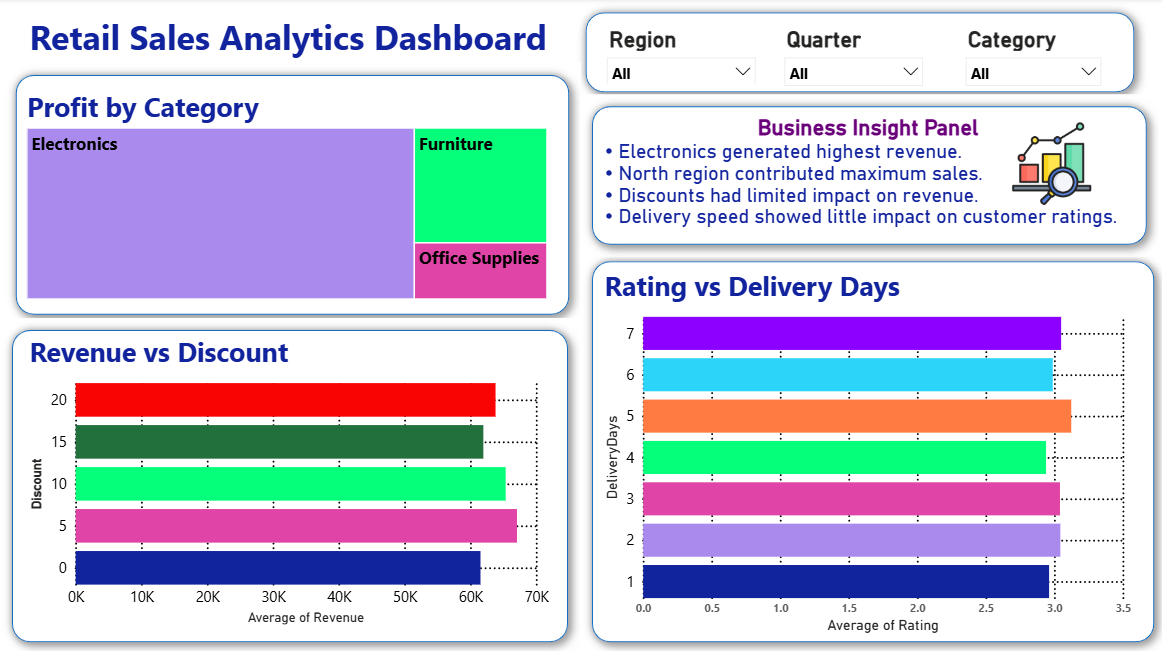

What the dashboard file says about the page in this screenshot:
{"tool":"powerbi","page":{"name":"Business Insights","canvas":[1280,720],"ordinal":3},"visuals":[{"type":"group","id":"g1","title":"Group 1","box":[629.8,2.7,628.5,113.9],"z":0,"group":"g6"},{"type":"shape","box":[629.8,2.7,628.5,113.9],"z":0,"group":"g1"},{"type":"textbox","box":[27.4,12.3,592.8,70],"z":0},{"type":"group","id":"g2","title":"Group 1","box":[3.4,71.7,634,289.5],"z":0,"group":"g7"},{"type":"shape","box":[3.4,71.7,634,289.5],"z":0,"group":"g2"},{"type":"group","id":"g3","title":"Group 1","box":[636.7,105.7,635.3,178.4],"z":0,"group":"g10"},{"type":"shape","box":[636.7,105.7,635.3,178.4],"z":0,"group":"g3"},{"type":"group","id":"g4","title":"Group 1","box":[636.7,275.8,643.6,444.6],"z":0,"group":"g9"},{"type":"shape","box":[636.7,275.8,643.6,444.6],"z":0,"group":"g4"},{"type":"group","id":"g5","title":"Group 1","box":[0,350.6,636.7,369.1],"z":0,"group":"g8"},{"type":"shape","box":[0,350.6,636.7,369.1],"z":0,"group":"g5"},{"type":"group","id":"g6","title":"Group 2","box":[629.8,2.7,628.5,113.9],"z":1000},{"type":"slicer","fields":{"Values":["Orders_Big.OrderDate.Variation.Date Hierarchy.Quarter"]},"box":[851.3,25.5,172.7,72.1],"z":1000,"group":"g6"},{"type":"treemap","title":"Profit by Category","fields":{"Values":["Sum(Orders_Big.Profit)"],"Group":["Products_Big.Category"]},"box":[23.8,99.3,580.9,236.8],"z":1000,"group":"g7"},{"type":"barChart","title":"Rating vs Delivery Days","fields":{"Category":["Orders_Big.DeliveryDays"],"Y":["Avg(Orders_Big.Rating)"]},"box":[659,294.6,588.3,407.5],"z":1000,"group":"g9"},{"type":"barChart","title":"Revenue vs Discount","fields":{"Category":["Orders_Big.Discount"],"Y":["Avg(Orders_Big.Revenue)"]},"box":[27.4,367.6,580.4,325.2],"z":1000,"group":"g8"},{"type":"slicer","fields":{"Values":["Products_Big.Category"]},"box":[1049.2,25.5,168.9,73.4],"z":2000,"group":"g6"},{"type":"group","id":"g7","title":"Group 2","box":[3.4,71.7,634,289.5],"z":2000},{"type":"slicer","fields":{"Values":["Orders_Big.Region"]},"box":[656,25.5,183.4,68.3],"z":3000,"group":"g6"},{"type":"group","id":"g8","title":"Group 2","box":[0,350.6,636.7,369.1],"z":3000},{"type":"group","id":"g9","title":"Group 2","box":[636.7,275.8,643.6,444.6],"z":4000},{"type":"group","id":"g10","title":"Group 2","box":[636.7,105.7,635.3,178.4],"z":5000},{"type":"textbox","box":[658.7,123.5,588.7,137.2],"z":6000},{"type":"image","box":[1090.9,135.8,127.6,91.9],"z":7000}]}

Visuals, with their boxes in screenshot pixels (x1, y1, x2, y2), scaled from the page's 1280x720 canvas onto the 1162x651 screenshot:
"Group 1" group: box(572, 2, 1142, 105)
shape: box(572, 2, 1142, 105)
textbox: box(25, 11, 563, 74)
"Group 1" group: box(3, 65, 579, 327)
shape: box(3, 65, 579, 327)
"Group 1" group: box(578, 96, 1155, 257)
shape: box(578, 96, 1155, 257)
"Group 1" group: box(578, 249, 1161, 650)
shape: box(578, 249, 1161, 650)
"Group 1" group: box(0, 317, 578, 650)
shape: box(0, 317, 578, 650)
"Group 2" group: box(572, 2, 1142, 105)
slicer - Orders_Big.OrderDate.Variation.Date Hierarchy.Quarter: box(773, 23, 930, 88)
"Profit by Category" treemap: box(22, 90, 549, 304)
"Rating vs Delivery Days" barChart: box(598, 266, 1132, 635)
"Revenue vs Discount" barChart: box(25, 332, 552, 626)
slicer - Products_Big.Category: box(952, 23, 1106, 89)
"Group 2" group: box(3, 65, 579, 327)
slicer - Orders_Big.Region: box(596, 23, 762, 85)
"Group 2" group: box(0, 317, 578, 650)
"Group 2" group: box(578, 249, 1161, 650)
"Group 2" group: box(578, 96, 1155, 257)
textbox: box(598, 112, 1132, 236)
image: box(990, 123, 1106, 206)
